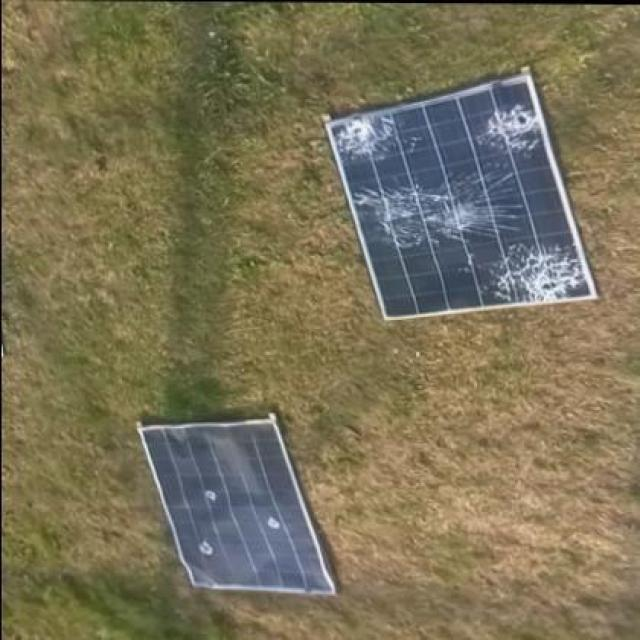cracked: (324, 70, 604, 323)
soiled: (138, 417, 342, 599)
